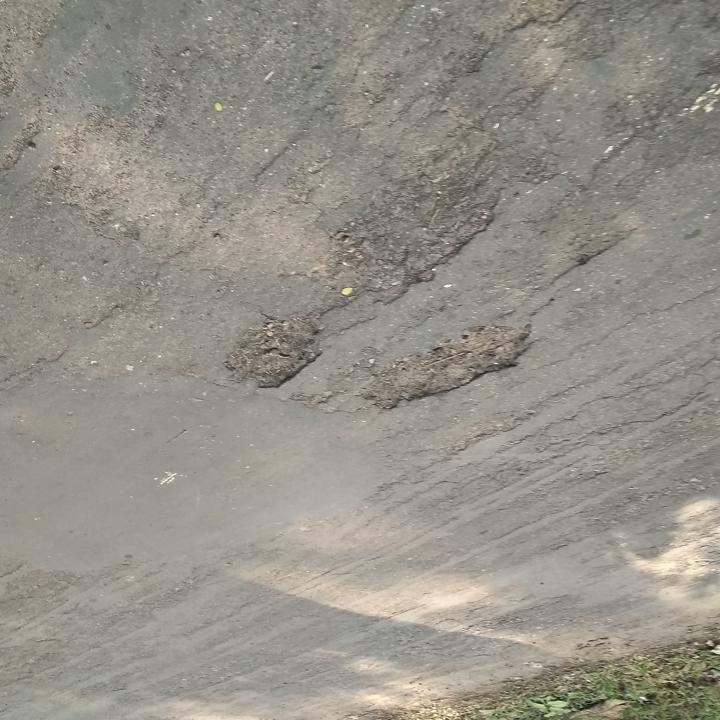pothole: (320, 169, 504, 305), (355, 321, 536, 414), (220, 309, 326, 392)
